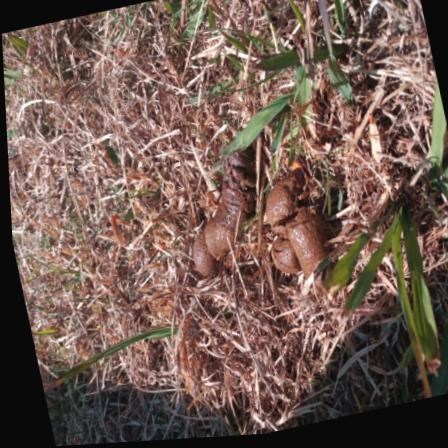dog-poop: (165, 146, 264, 286), (246, 166, 327, 301)
